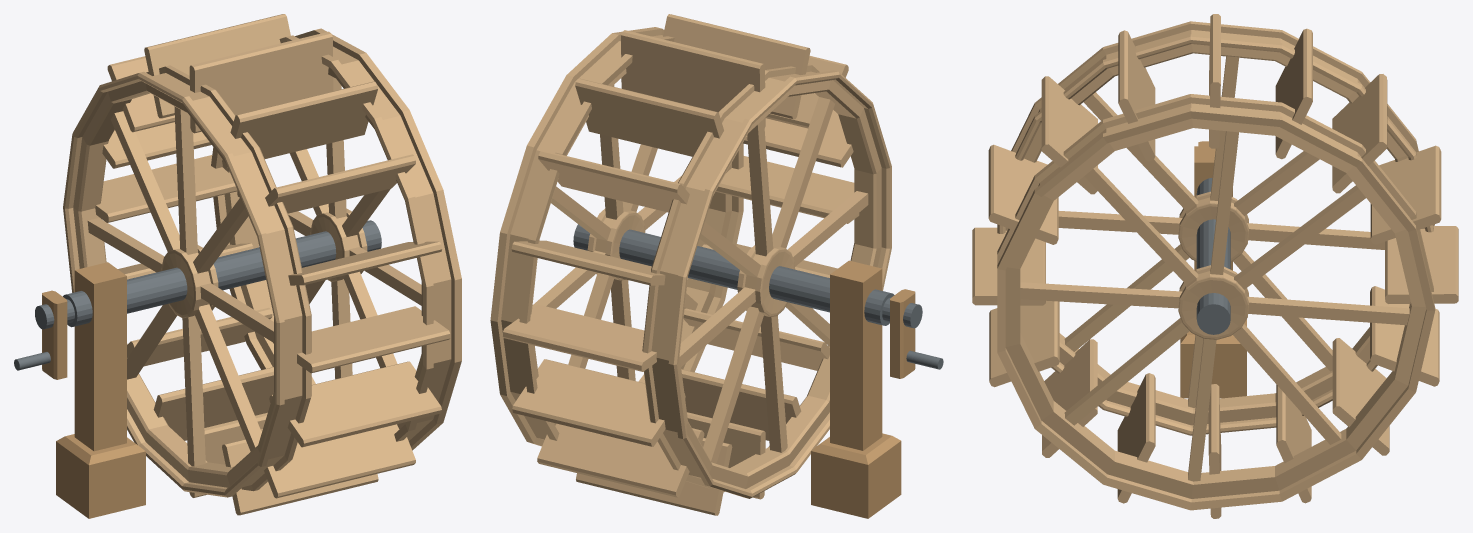
Rendered from WaterMill.fbx.
3 views of the same model, side by side, from view 1: azimuth 30°, elevation 25°; view 2: azimuth 150°, elevation 25°; view 3: azimuth 270°, elevation 25° (orthographic).
Visible parts, largest first — view 1: Cube, Cube.002; view 2: Cube, Cube.002; view 3: Cube, Cube.002.
Part boxes in pixels (x1=…): Cube: x1=63, y1=14, x2=461, y2=515; Cube.002: x1=14, y1=220, x2=381, y2=518; Cube: x1=490, y1=14, x2=891, y2=515; Cube.002: x1=573, y1=224, x2=943, y2=518; Cube: x1=972, y1=14, x2=1458, y2=518; Cube.002: x1=1180, y1=141, x2=1246, y2=398.
Bounding box in the file's own units: 196 × 226 × 228.
